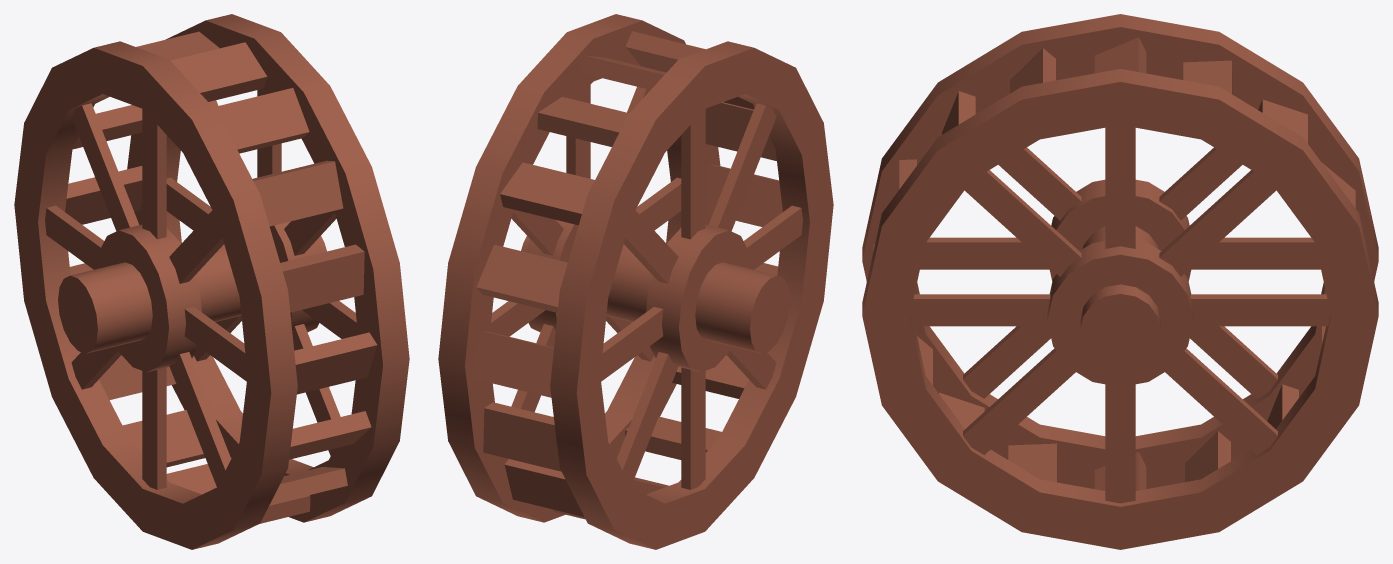
Rendered from watermill_wheel.glb.
3 renders of one model, left to right at view 1: azimuth 30°, elevation 25°; view 2: azimuth 150°, elevation 25°; view 3: azimuth 270°, elevation 25°, orthographic.
Parts seen in each view (by area): view 1: watermill_wheel_Cylinder.778; view 2: watermill_wheel_Cylinder.778; view 3: watermill_wheel_Cylinder.778.
Boxes of the visible parts, box(x1,y1,x2,y2) form: watermill_wheel_Cylinder.778: box(14, 14, 409, 549); watermill_wheel_Cylinder.778: box(438, 14, 833, 549); watermill_wheel_Cylinder.778: box(862, 14, 1378, 549).
Size of the model in its own units: 0.5197 by 0.995 by 0.995.
